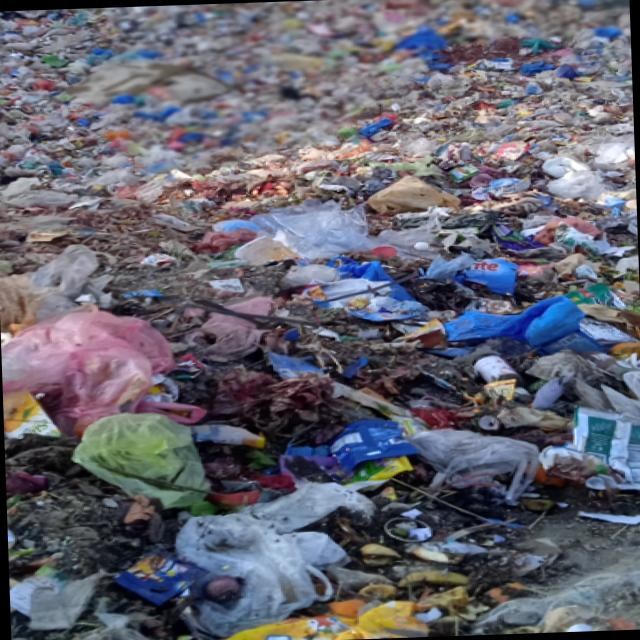electronic: (205, 587, 445, 640), (567, 395, 640, 502), (117, 545, 210, 608), (316, 417, 432, 460), (362, 171, 460, 215), (457, 246, 537, 295)
general: (61, 386, 215, 520), (0, 307, 174, 424), (264, 197, 367, 254), (543, 164, 613, 204)
